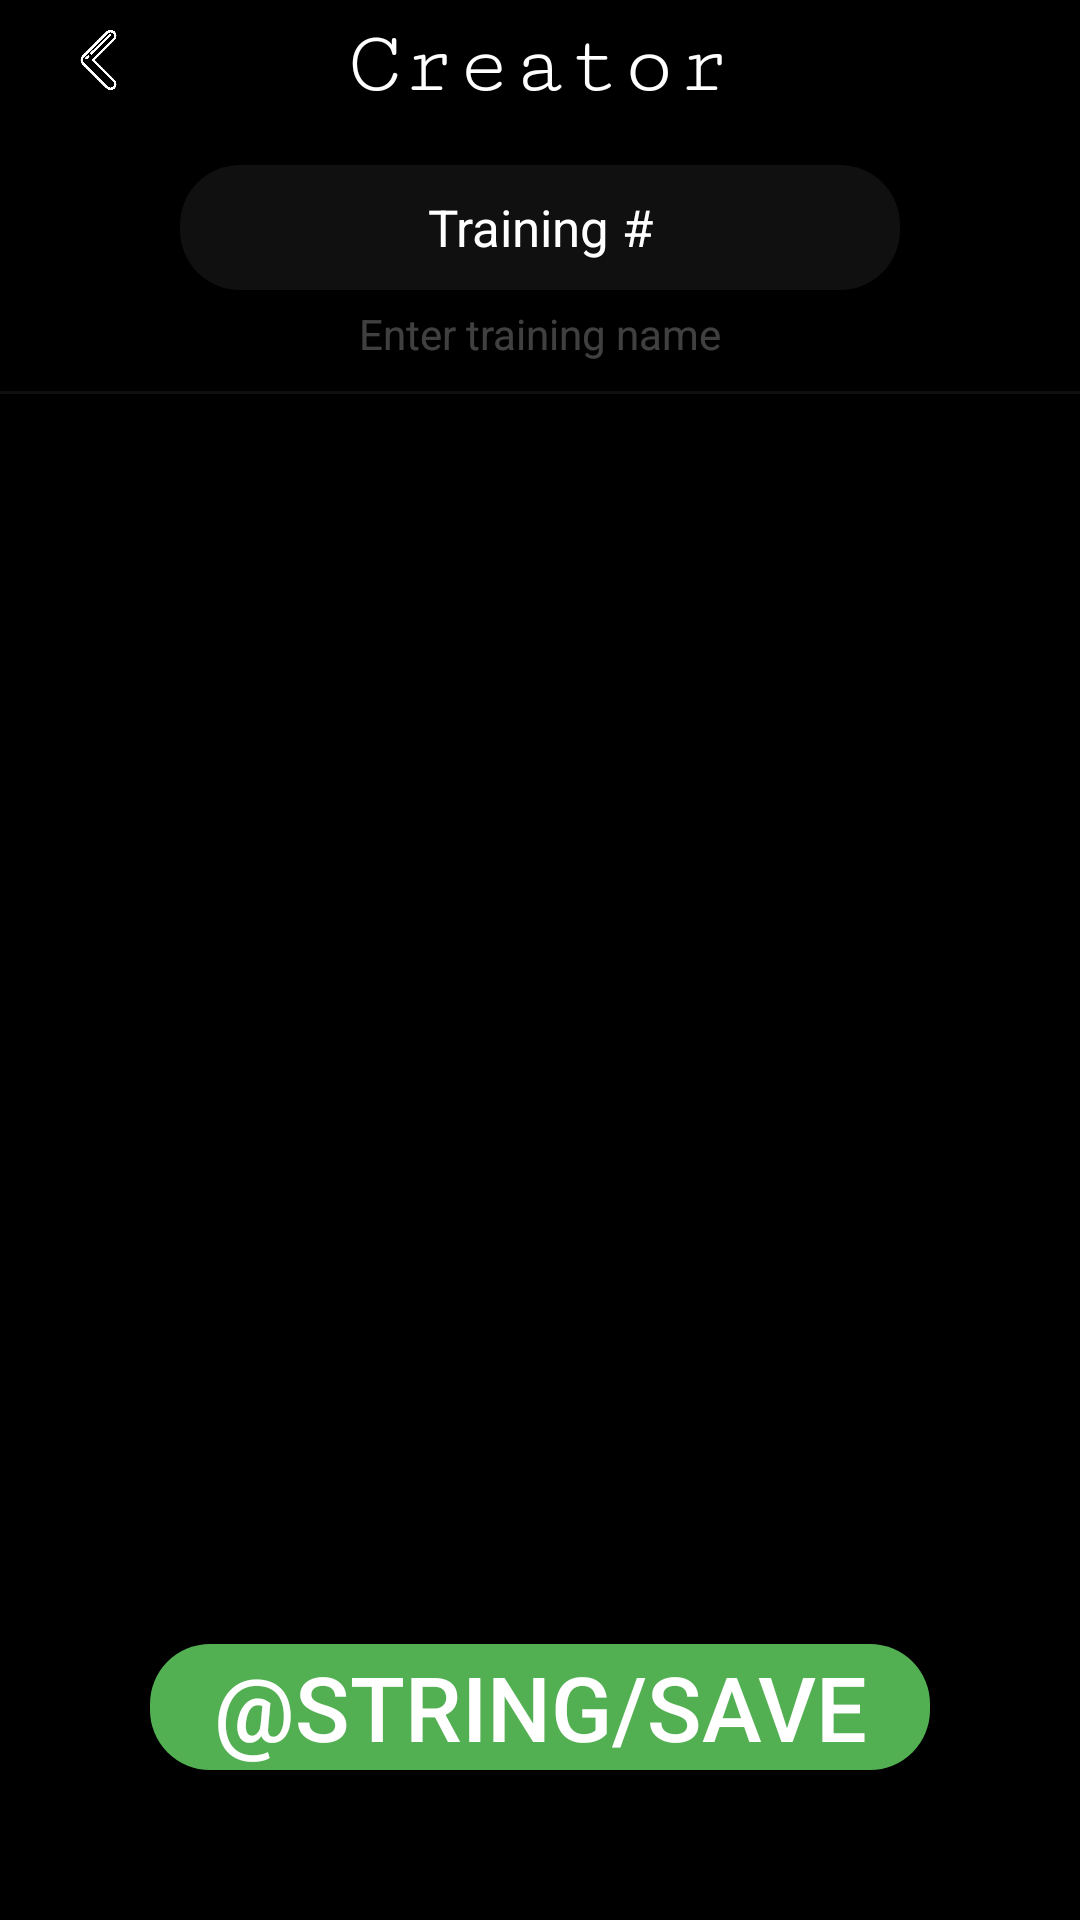

Locate icon controls on the screen. Image size 1080×1920, boxes as [x1,y1,x2,y2].
backward: [80,30,117,90]
